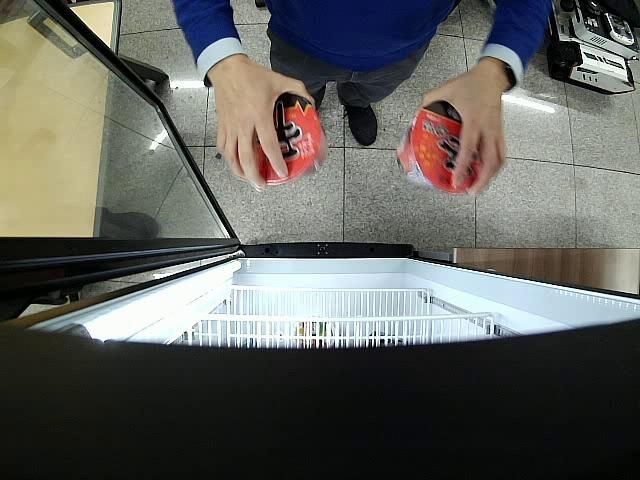01_ShinRamen_L: (396, 100, 484, 192), (253, 91, 329, 186)
